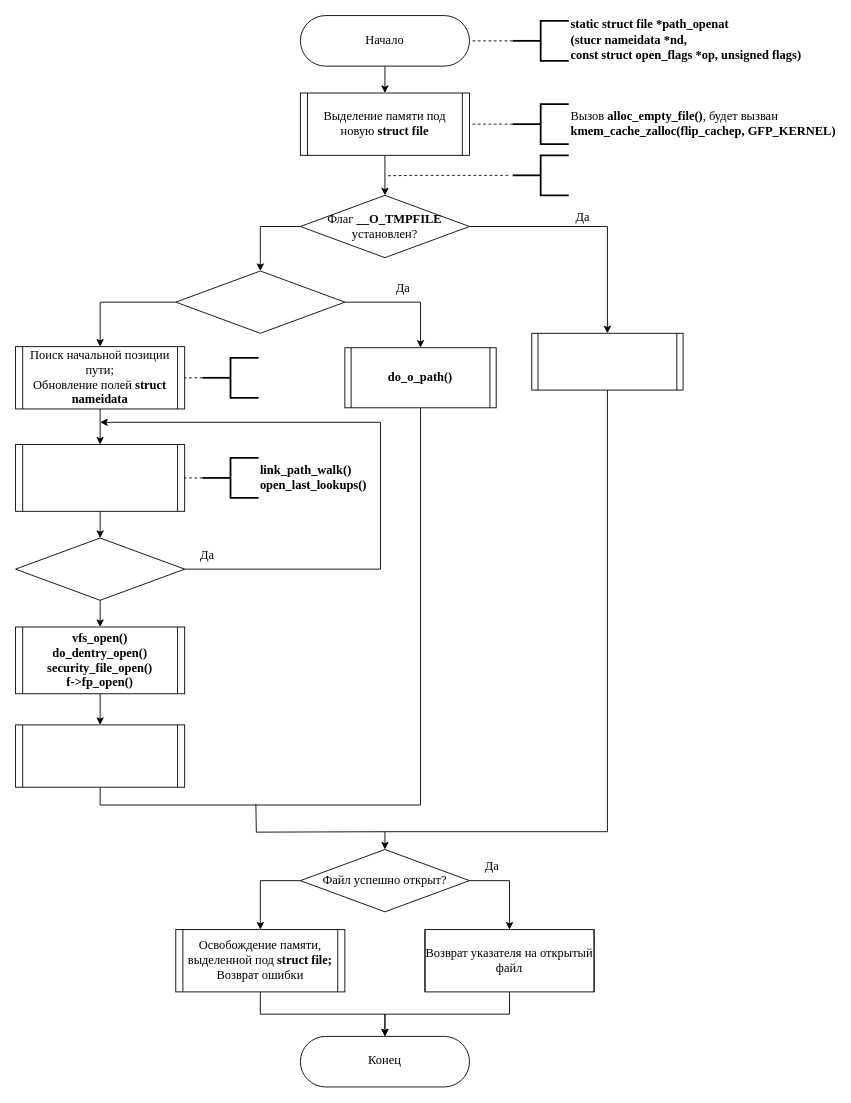
This 851x1103 diagram has some shape labels left out. Here are the shapes that lost their labels. From the top down, the centre of each, then its label:
At pixel 540 175: "Удалось выделить память под struct file".
At pixel 260 301: "Флаг O_PATH установлен?".
At pixel 230 377: "path_init()".
At pixel 607 361: "do_tmpfile()".
At pixel 100 477: "Проверка прав доступа; Получение файлового компонента".
At pixel 100 568: "Последний компонент пути не достигнут?".
At pixel 100 755: "terminate_walk()".
